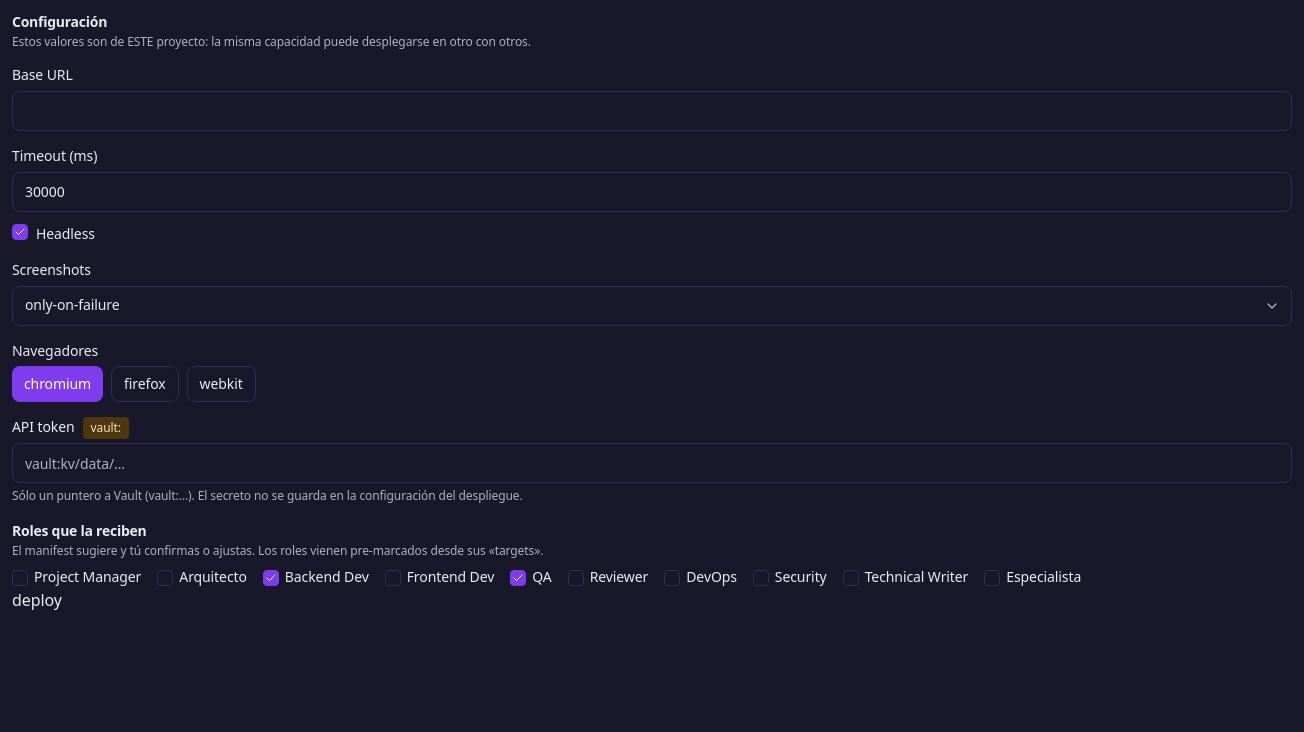
Test case: DeploymentConfigForm › un campo `secret` pide un puntero a Vault y su error NO ecoa el secreto
This screenshot has width=1304, height=732.
Check: the text with test id "dep-secret-help-api_token" is shown, box [12,487,522,504]
Step 1. Type "sk-live-0123456789" into the field with test id "dep-field-api_token" → (652, 463), box [12,443,1292,483]
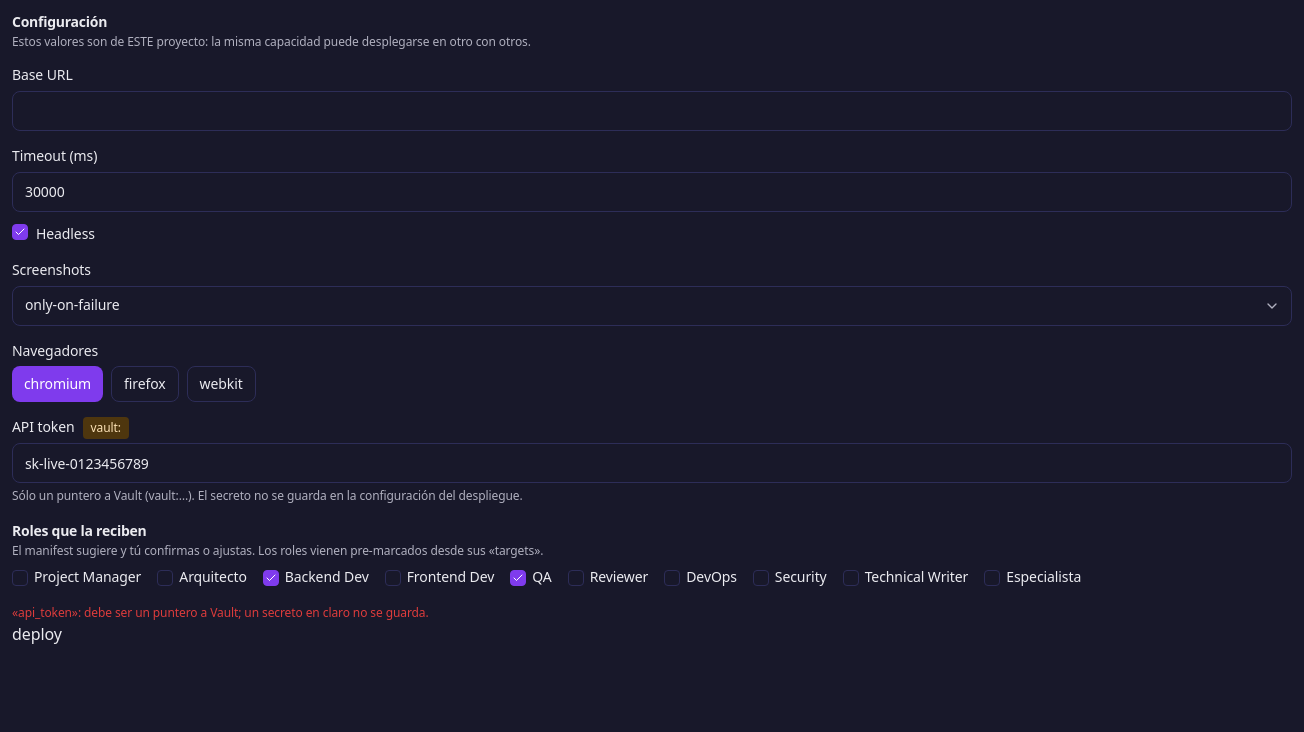
Check: the list with test id "dep-errors" shows "api_token", box [12,604,429,621]
Check: the button with test id "dep-submit" is disabled, box [12,622,62,646]
Step 2. Replace the text in the field with test id "dep-field-api_token" with "vault:kv/data/tenant/token" → (652, 463), box [12,443,1292,483]
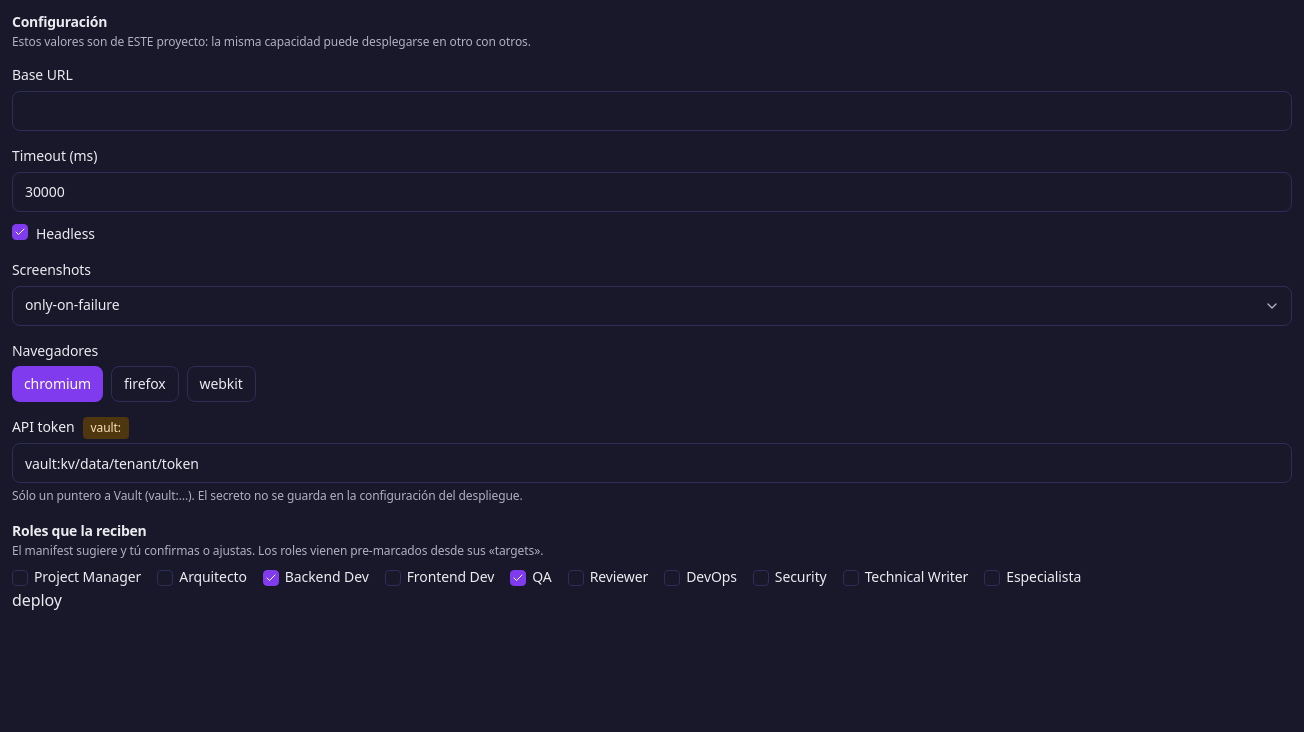
Check: the list with test id "dep-errors" is gone
Check: the button with test id "dep-submit" is enabled, box [12,588,62,613]
